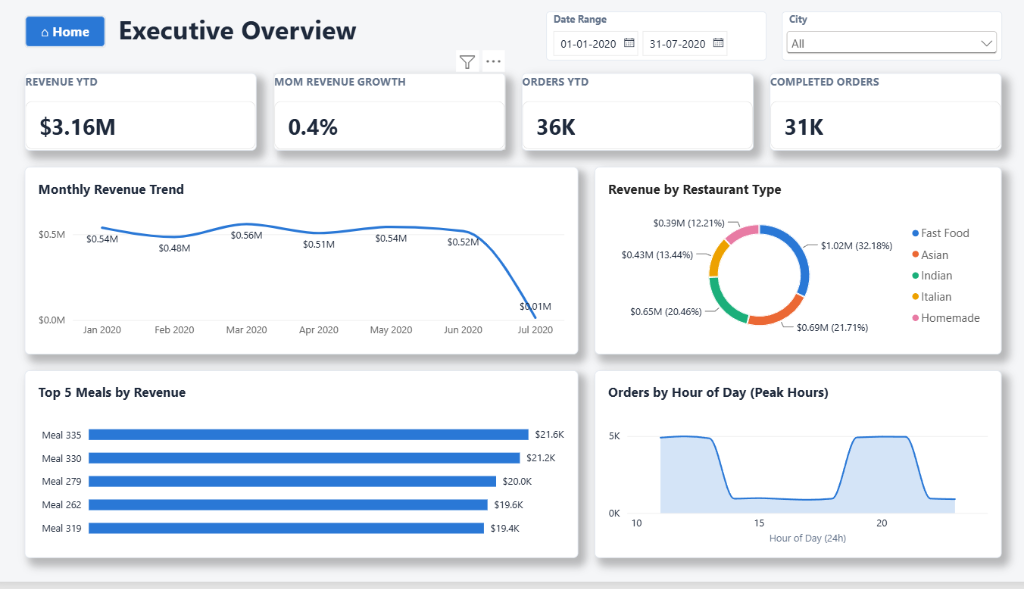

The dashboard page shown, as its layout file describes it:
{"tool":"powerbi","page":{"name":"Executive Overview","canvas":[1280,720],"ordinal":1},"visuals":[{"type":"actionButton","box":[40,25,100,40],"z":0},{"type":"textbox","box":[155,20,480,50],"z":1000},{"type":"slicer","fields":{"Values":["Date.Date"]},"box":[680,20,270,60],"z":2000},{"type":"slicer","fields":{"Values":["cities.CityName"]},"box":[970,20,270,60],"z":3000},{"type":"cardVisual","title":"REVENUE YTD","fields":{"Data":["KPI Measures.Revenue YTD"]},"box":[40,95,285,95],"z":4000},{"type":"cardVisual","title":"MOM REVENUE GROWTH","fields":{"Data":["KPI Measures.Revenue Growth %"]},"box":[345,95,285,95],"z":5000},{"type":"cardVisual","title":"ORDERS YTD","fields":{"Data":["KPI Measures.Orders YTD"]},"box":[650,95,285,95],"z":6000},{"type":"cardVisual","title":"COMPLETED ORDERS","fields":{"Data":["KPI Measures.Completed Orders"]},"box":[955,95,285,95],"z":7000},{"type":"lineChart","title":"Monthly Revenue Trend","fields":{"Category":["Date.Month Year"],"Y":["KPI Measures.Total Revenue"]},"box":[40,210,680,230],"z":8000},{"type":"donutChart","title":"Revenue by Restaurant Type","fields":{"Category":["restaurant_types.RestaurantType"],"Y":["KPI Measures.Total Revenue"]},"box":[740,210,500,230],"z":9000},{"type":"clusteredBarChart","title":"Top 5 Meals by Revenue","fields":{"Category":["meals.MealName"],"Y":["KPI Measures.Meal Revenue"]},"box":[40,460,680,230],"z":10000},{"type":"areaChart","title":"Orders by Hour of Day (Peak Hours)","fields":{"Category":["orders.HourOfDay"],"Y":["KPI Measures.Total Orders"]},"box":[740,460,500,230],"z":10001}]}

Visuals, with their boxes in screenshot pixels (x1, y1, x2, y2), scaled from the page's 1280x720 canvas onto the 1024x589 screenshot:
actionButton: (left=32, top=20, right=112, bottom=53)
textbox: (left=124, top=16, right=508, bottom=57)
slicer - Date.Date: (left=544, top=16, right=760, bottom=65)
slicer - cities.CityName: (left=776, top=16, right=992, bottom=65)
"REVENUE YTD" cardVisual: (left=32, top=78, right=260, bottom=155)
"MOM REVENUE GROWTH" cardVisual: (left=276, top=78, right=504, bottom=155)
"ORDERS YTD" cardVisual: (left=520, top=78, right=748, bottom=155)
"COMPLETED ORDERS" cardVisual: (left=764, top=78, right=992, bottom=155)
"Monthly Revenue Trend" lineChart: (left=32, top=172, right=576, bottom=360)
"Revenue by Restaurant Type" donutChart: (left=592, top=172, right=992, bottom=360)
"Top 5 Meals by Revenue" clusteredBarChart: (left=32, top=376, right=576, bottom=564)
"Orders by Hour of Day (Peak Hours)" areaChart: (left=592, top=376, right=992, bottom=564)
